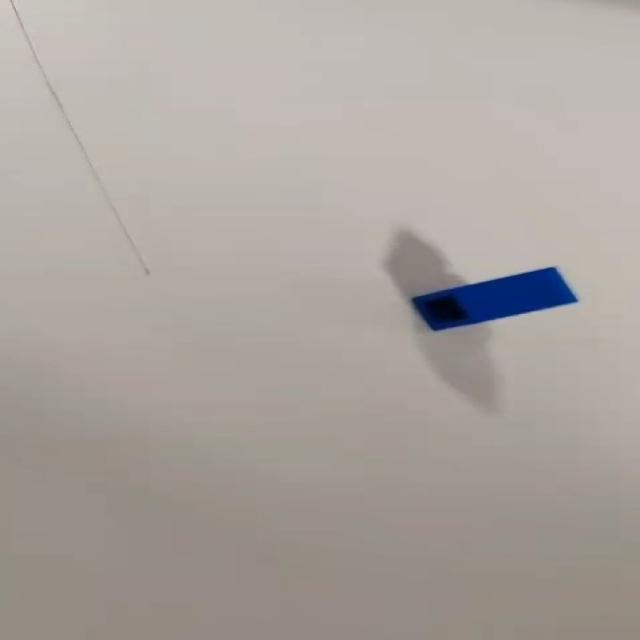X1x2x1: (413, 266, 581, 336)
